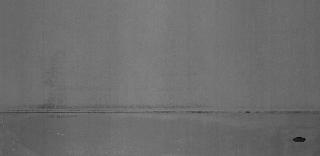punching hole: (292, 134, 308, 144)
welding line: (2, 103, 318, 117)
